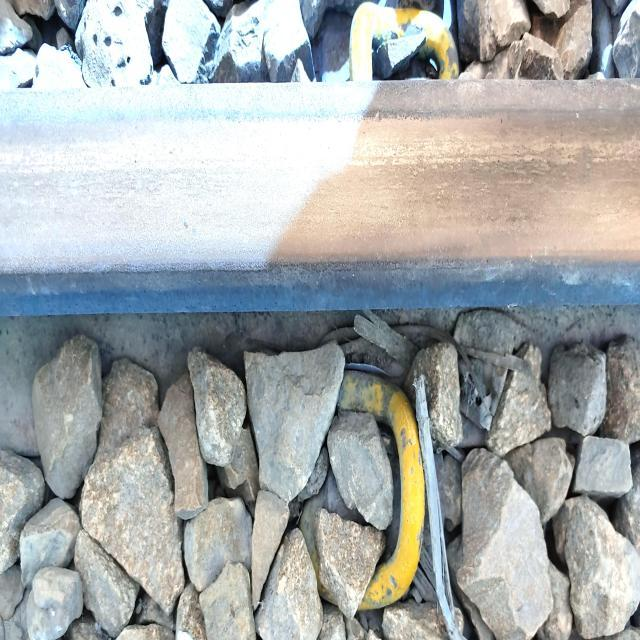Good Fasteners: (299, 370, 424, 618), (312, 2, 459, 82)
